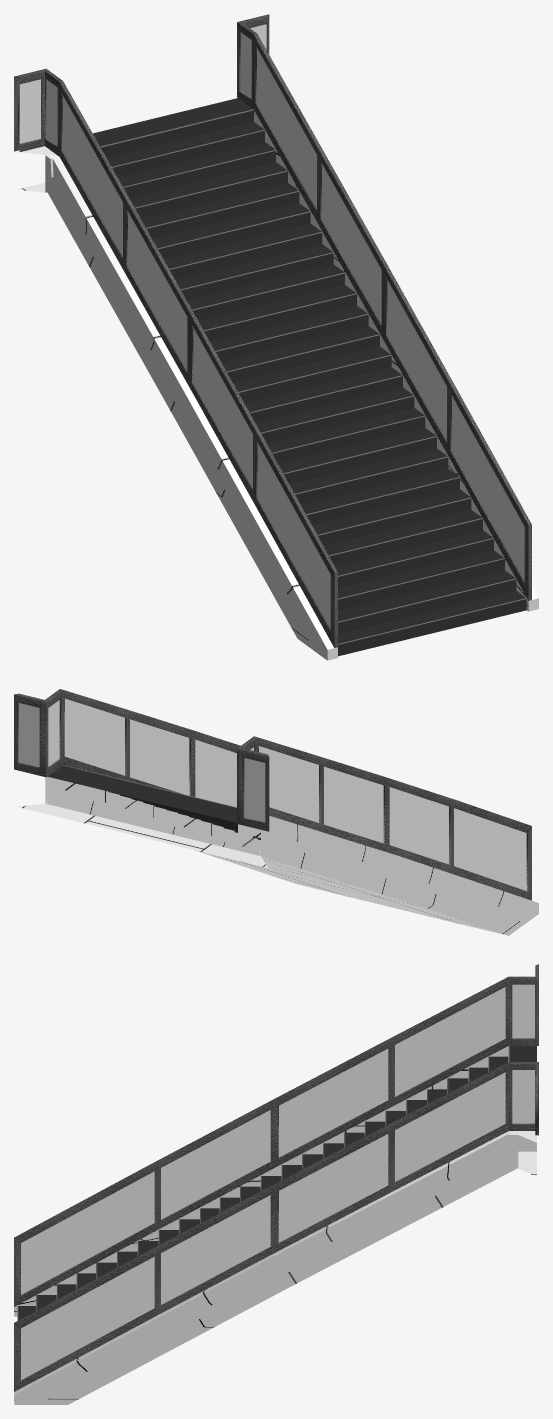
File: Stairs04_265x700cm.FBX
3 views of the same model, one above another, from view 1: azimuth 30°, elevation 25°; view 2: azimuth 150°, elevation 25°; view 3: azimuth 270°, elevation 25° (orthographic). The views are drawn at different scales.
Visible parts, largest first — view 1: Stairs, Parapet; view 2: Parapet, Stairs; view 3: Parapet, Stairs.
Part boxes in pixels (x1,y1,x2,y2): Stairs: (93,98,526,656); Parapet: (14,14,538,660); Parapet: (14,689,538,935); Stairs: (48,765,260,839); Parapet: (14,964,538,1404); Stairs: (17,1046,536,1320).
Bounding box in the file's own units: 355 × 500 × 703.
